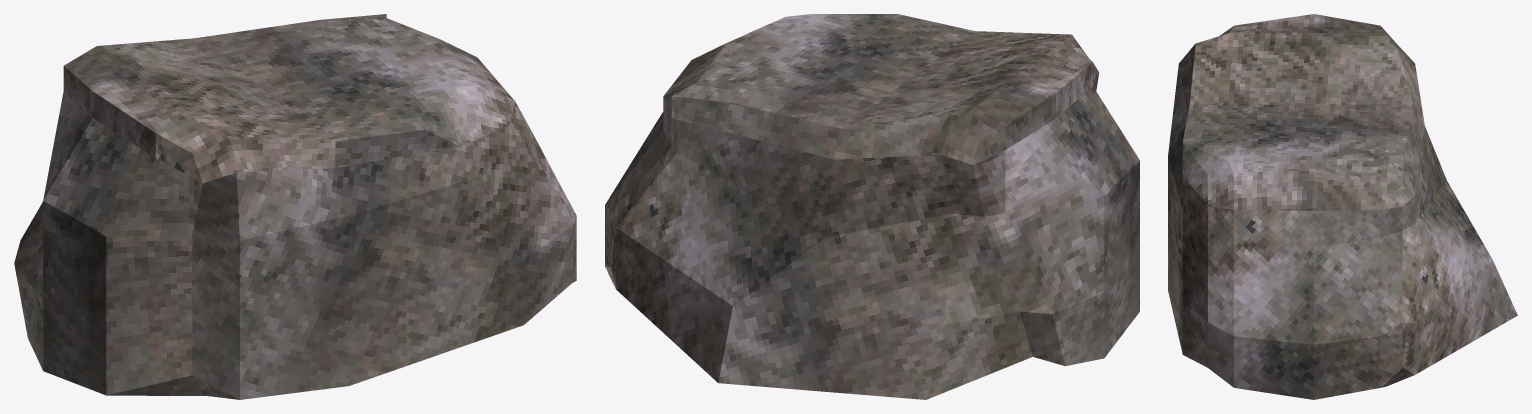
Rendered from sm_rock_1.gltf.
The picture shows the model from 3 angles, left to right: view 1: azimuth 30°, elevation 25°; view 2: azimuth 150°, elevation 25°; view 3: azimuth 270°, elevation 25°; orthographic projection. The views are drawn at different scales.
Visible parts, largest first — view 1: Cube.003; view 2: Cube.003; view 3: Cube.003.
Part boxes in pixels (x1,y1,x2,y2): Cube.003: (14,14,576,399); Cube.003: (605,14,1139,399); Cube.003: (1168,14,1517,399).
Size of the model in its own units: 5.57 by 2.88 by 4.28.
Materials: 1 (1 with a texture image).
